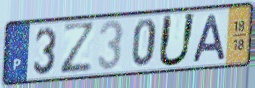0: (130, 17, 158, 70)
3: (97, 18, 126, 74), (32, 26, 58, 77)
A: (189, 12, 228, 64)
U: (156, 12, 198, 69)
Z: (59, 21, 97, 77)
